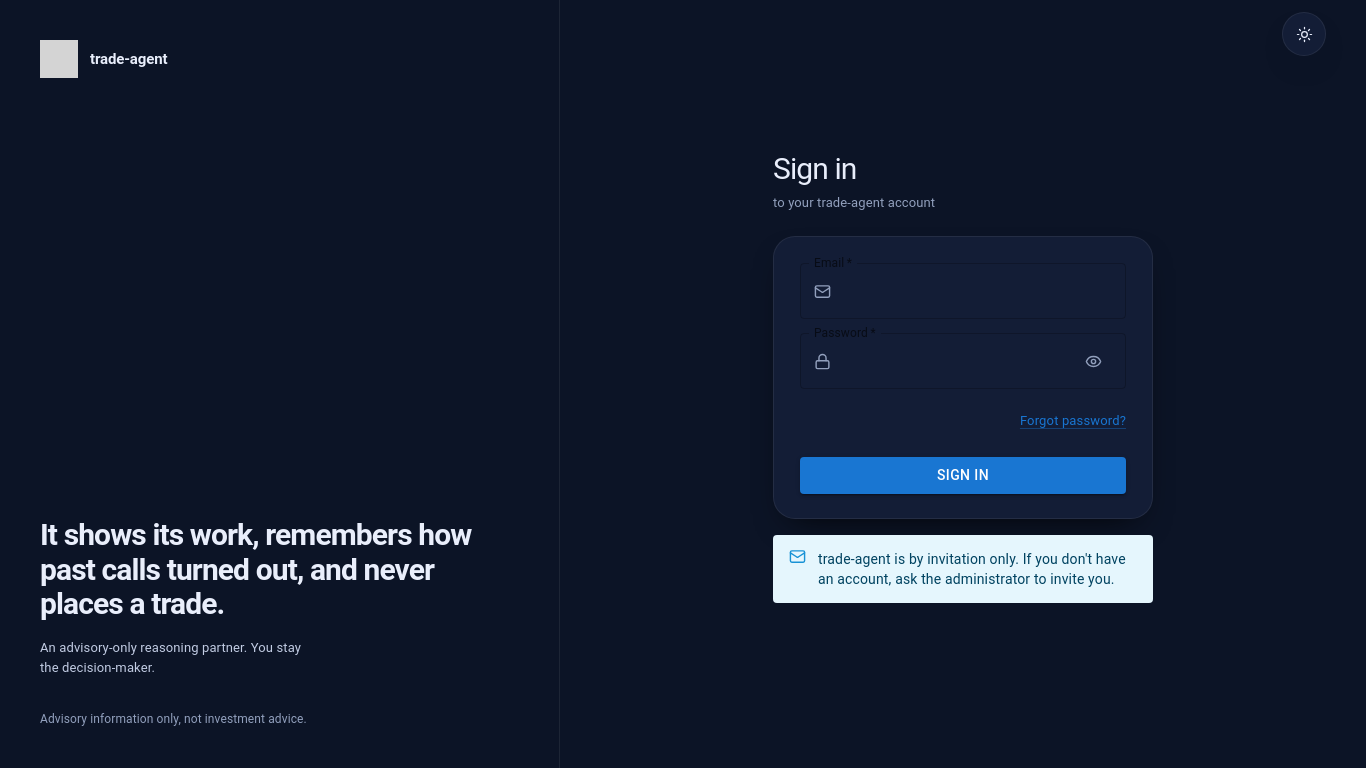
it: LoginPage › signs the user back out and shows a calm message when the account has no access
Type "a@example.com" into the field labelled "Email *" at (982, 291), box [839,263,1126,319]
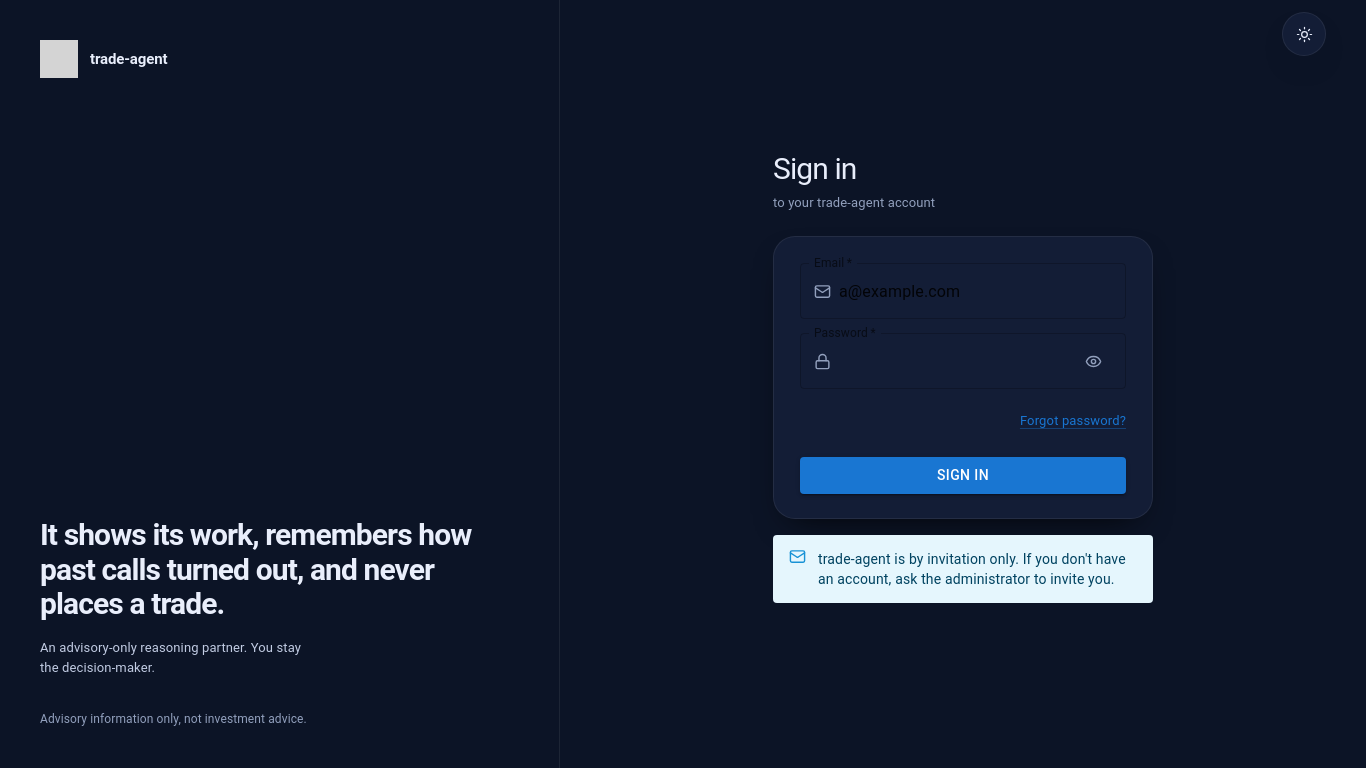
Type "secret123" into the password field labelled "Password *" at (951, 361), box [839,333,1063,389]
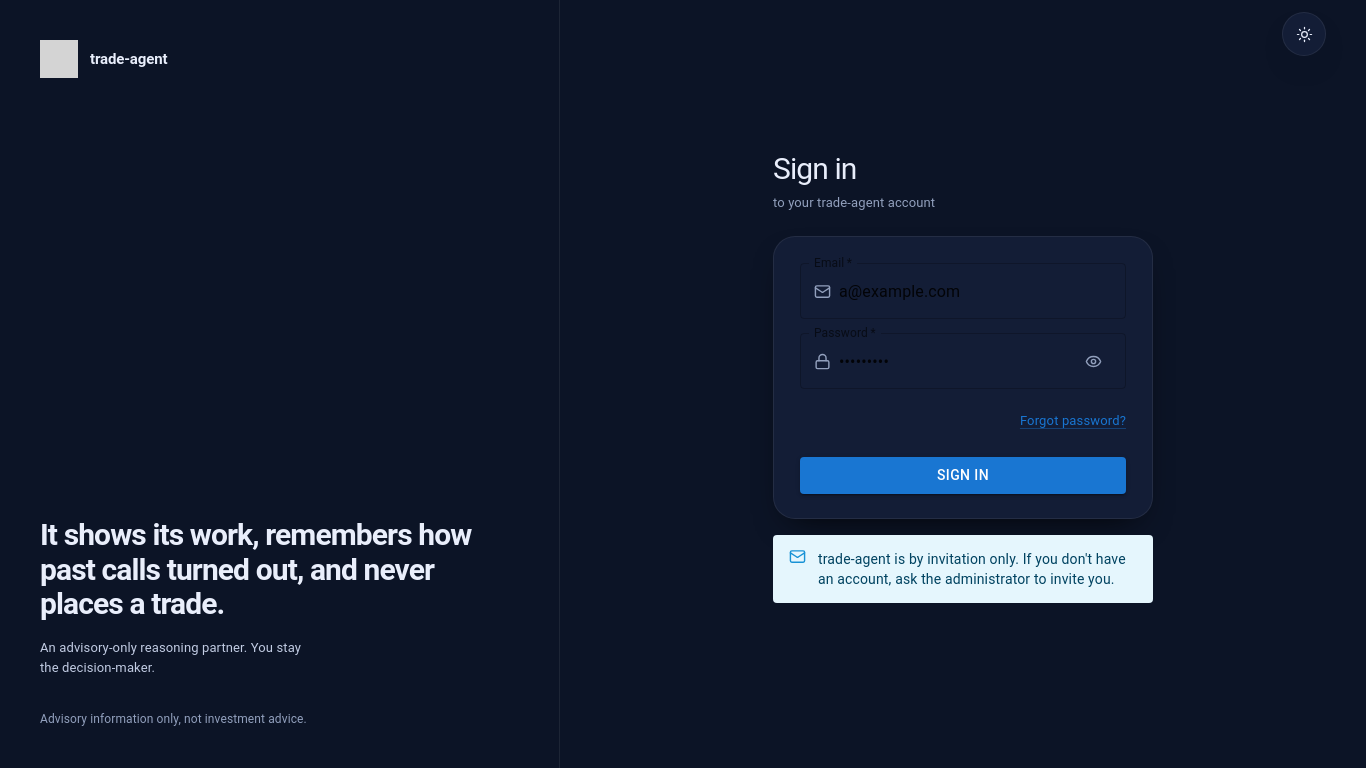
Click the button "Sign in" at (963, 475), box [800,457,1126,494]
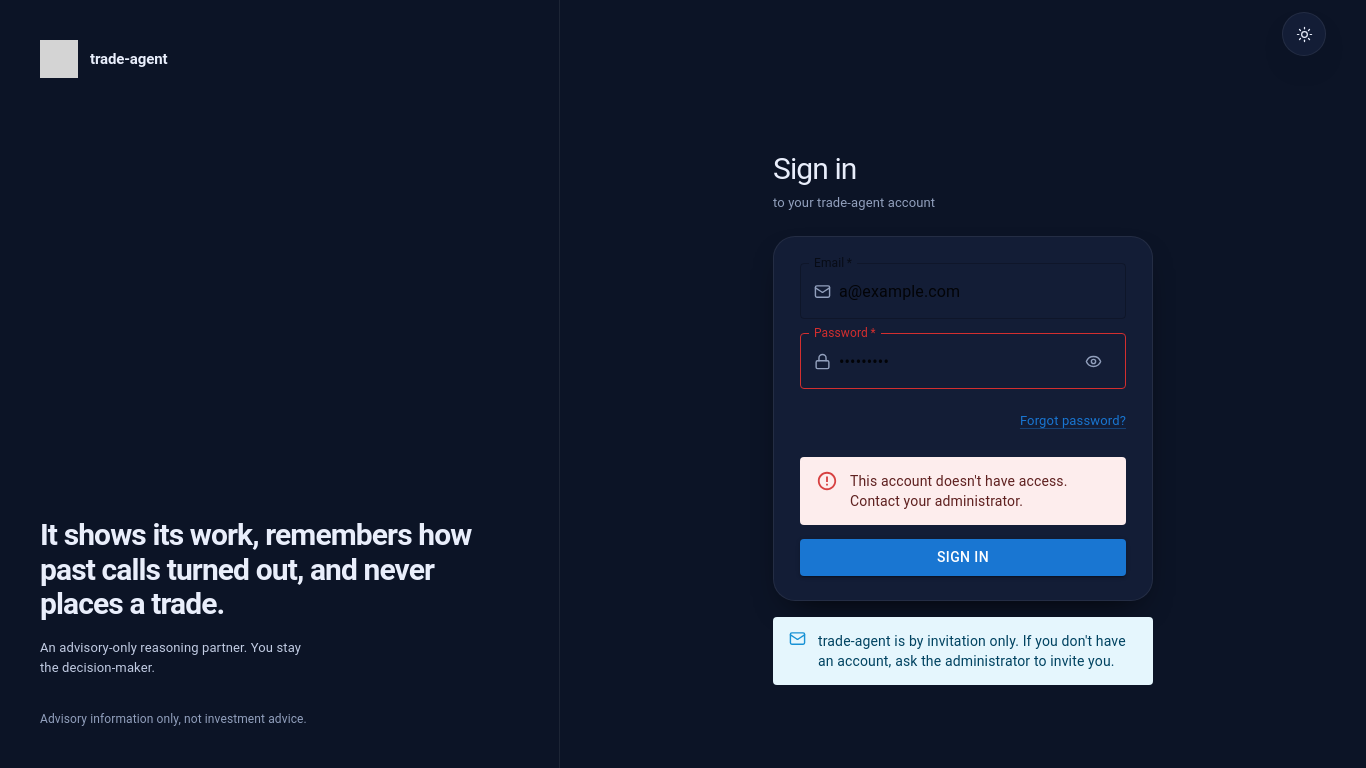
Expected: the text "This account doesn't have access" is shown, [850,473,1068,509]
